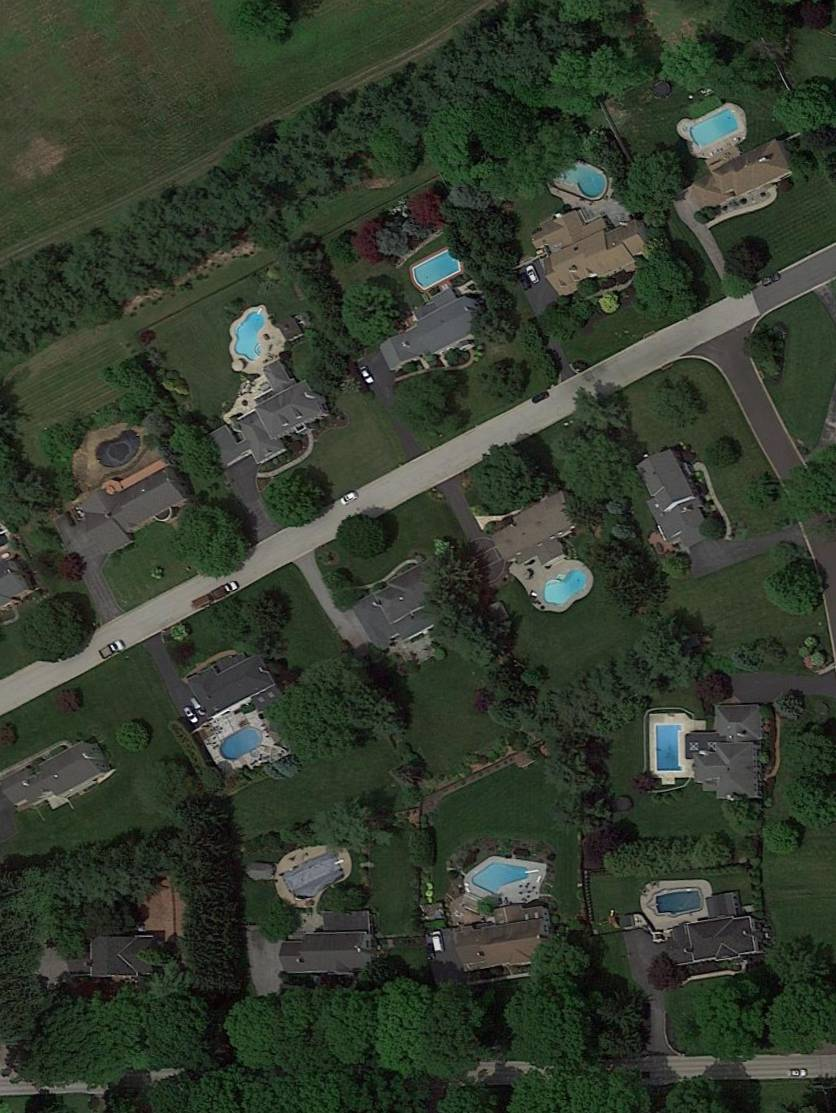large vehicle: (191, 578, 240, 612)
small vehicle: (99, 637, 127, 660), (188, 693, 210, 720), (758, 269, 785, 290), (337, 488, 362, 509), (522, 262, 541, 287), (358, 364, 377, 387), (181, 702, 199, 726), (530, 389, 552, 406), (431, 929, 445, 955), (514, 271, 531, 292), (785, 1067, 809, 1079)
swimming pool: (90, 424, 150, 474), (552, 156, 611, 202), (410, 247, 466, 291), (540, 566, 594, 611), (470, 858, 530, 898), (216, 721, 269, 765), (689, 107, 741, 150), (231, 308, 268, 363), (656, 889, 704, 919), (655, 724, 683, 770)
